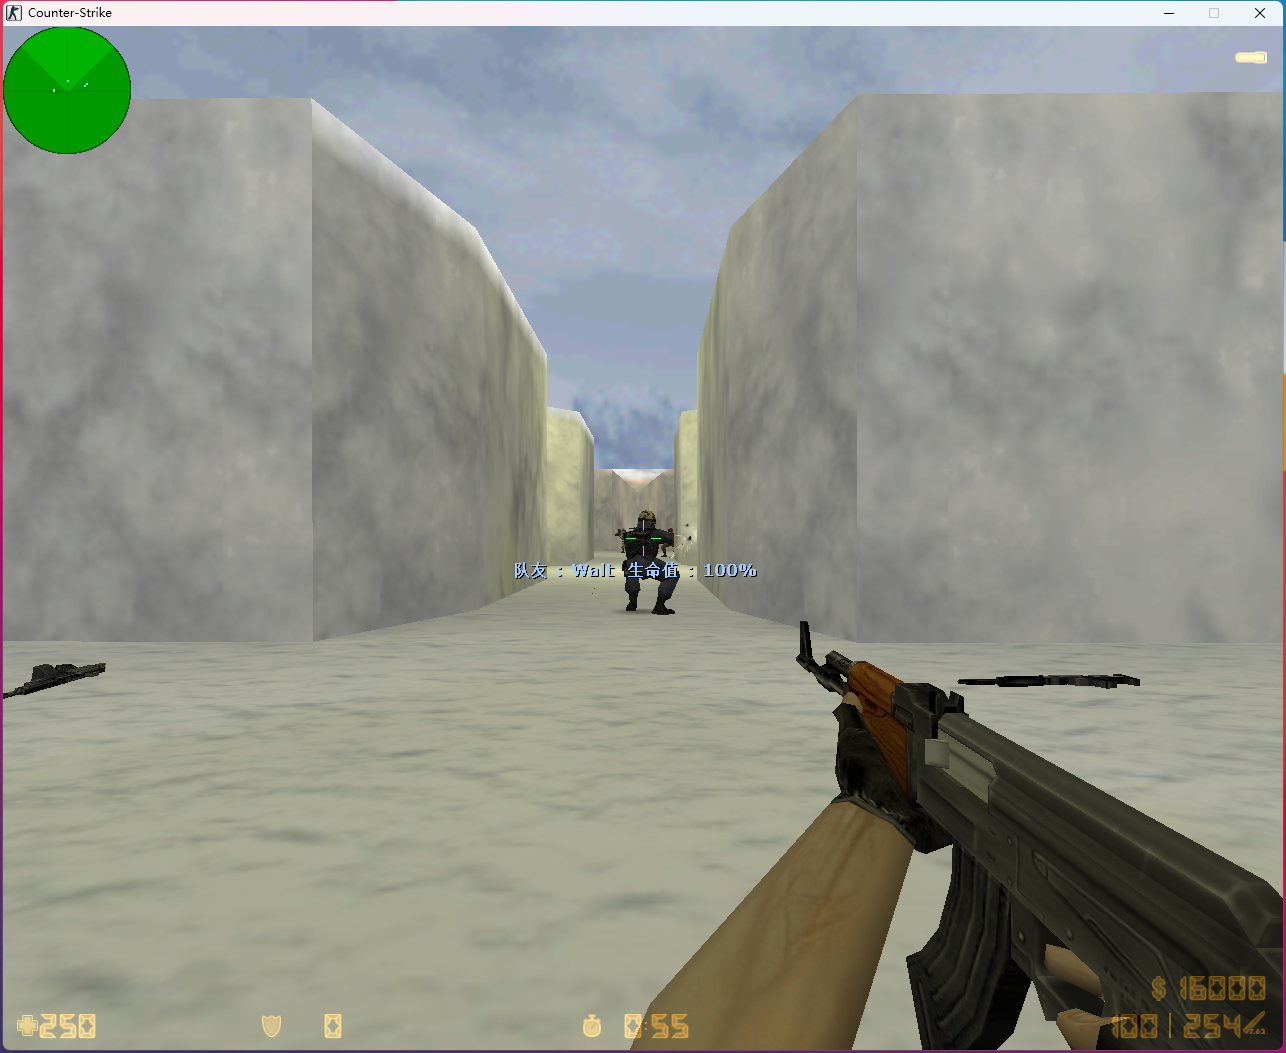C: (621, 510, 681, 616)
weapon: (1, 658, 110, 709), (959, 673, 1140, 690)
